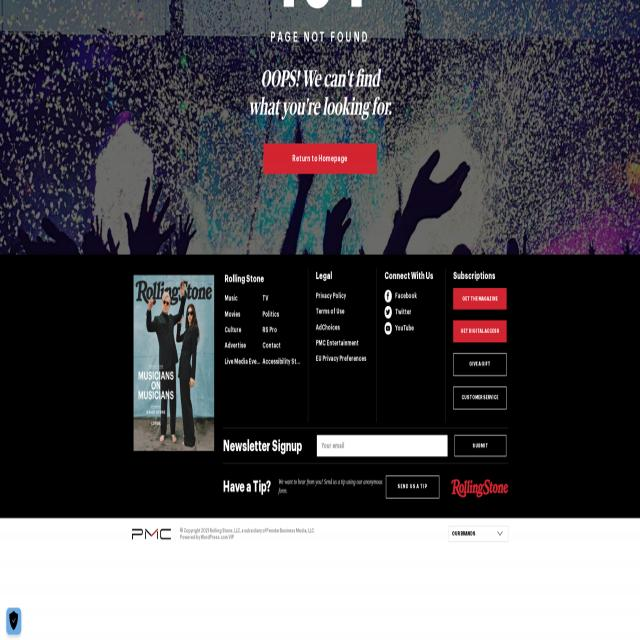button: (133, 275, 214, 450), (263, 144, 377, 174), (453, 288, 507, 310), (453, 353, 507, 375), (453, 387, 507, 409), (386, 476, 439, 498), (451, 478, 508, 498), (453, 321, 507, 342), (455, 435, 506, 457), (449, 525, 507, 542), (132, 527, 171, 541), (6, 608, 22, 636), (384, 290, 392, 303), (384, 306, 392, 319), (384, 322, 392, 335)
field: (316, 435, 448, 457)
